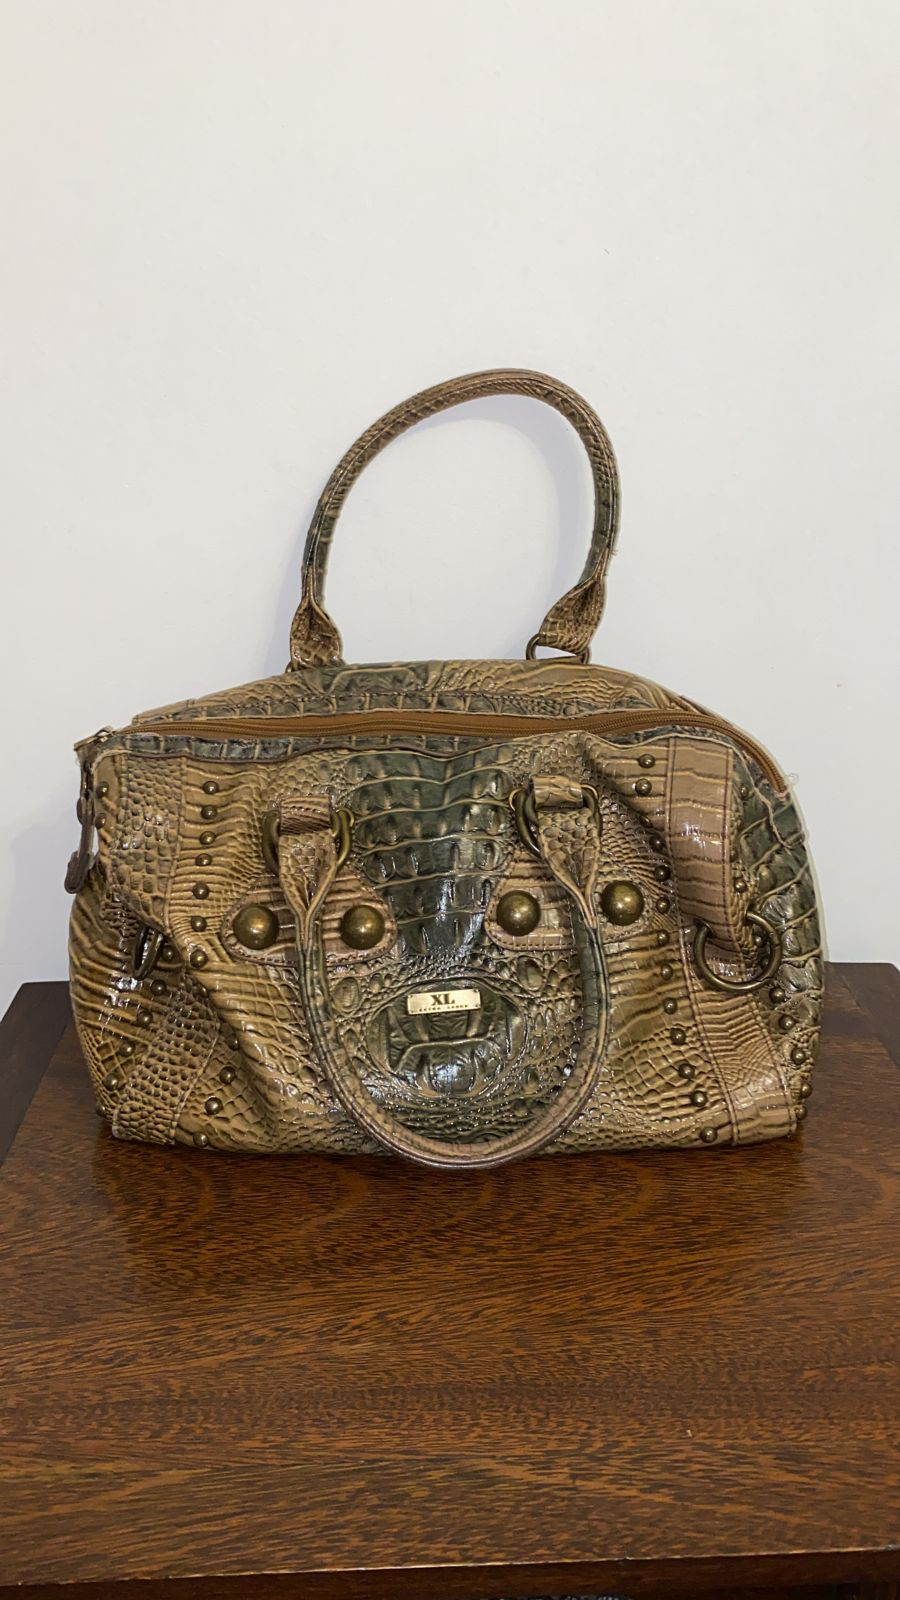cartera: (59, 345, 837, 1177)
cuero: (362, 759, 765, 1121)
